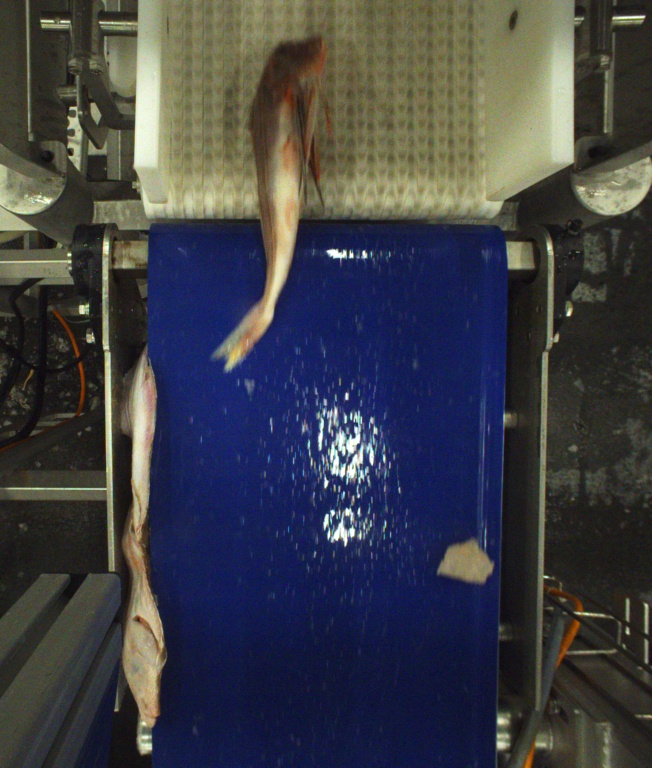GUU: (207, 33, 329, 371)
